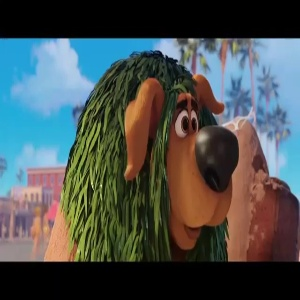Scooby: (122, 66, 241, 248)
